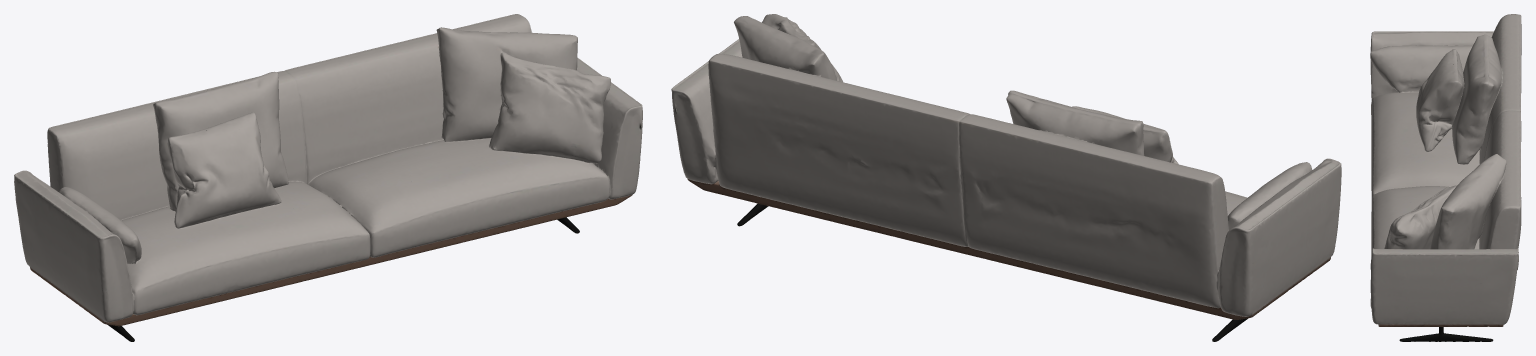
File: modern_two_seater_sofa_mm8pye.glb
3 renders of one model, left to right at view 1: azimuth 30°, elevation 25°; view 2: azimuth 150°, elevation 25°; view 3: azimuth 270°, elevation 25°, orthographic. The views are drawn at different scales.
Visible parts, largest first — view 1: world; view 2: world; view 3: world.
Boxes of the visible parts, x1,y1,x2,y2 form: world: [14, 14, 642, 341]; world: [671, 14, 1341, 341]; world: [1370, 14, 1521, 341].
Size of the model in its own units: 0.9948 by 0.324 by 0.2856.
Materials: 1 (1 with a texture image).
